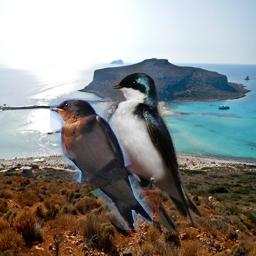Swallow: (102, 70, 202, 232), (50, 98, 153, 230)
